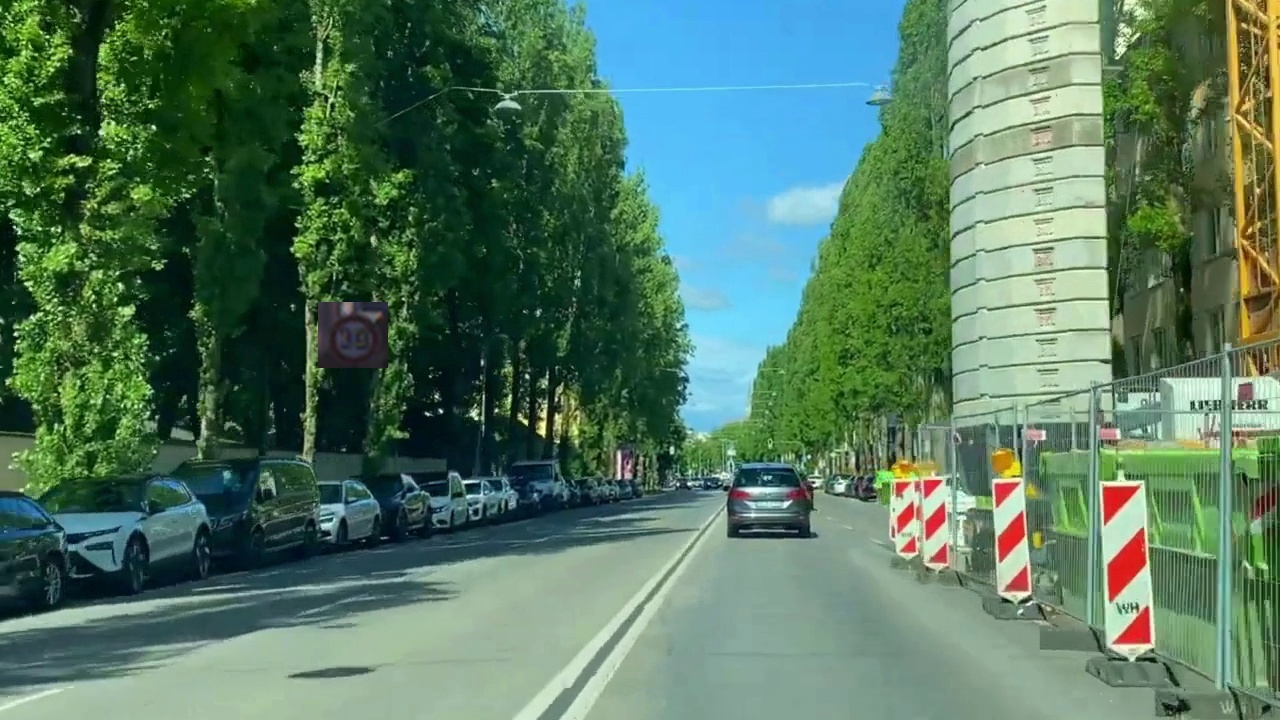Speed 30: (318, 302, 388, 368)
